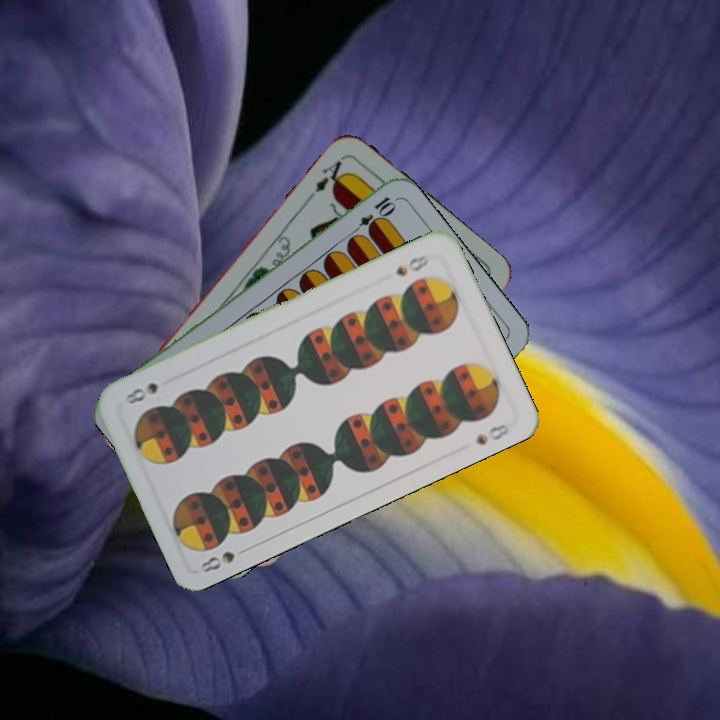E10: (346, 192, 398, 239)
EA: (303, 156, 350, 203)
S8: (196, 543, 253, 576), (392, 251, 431, 279)
